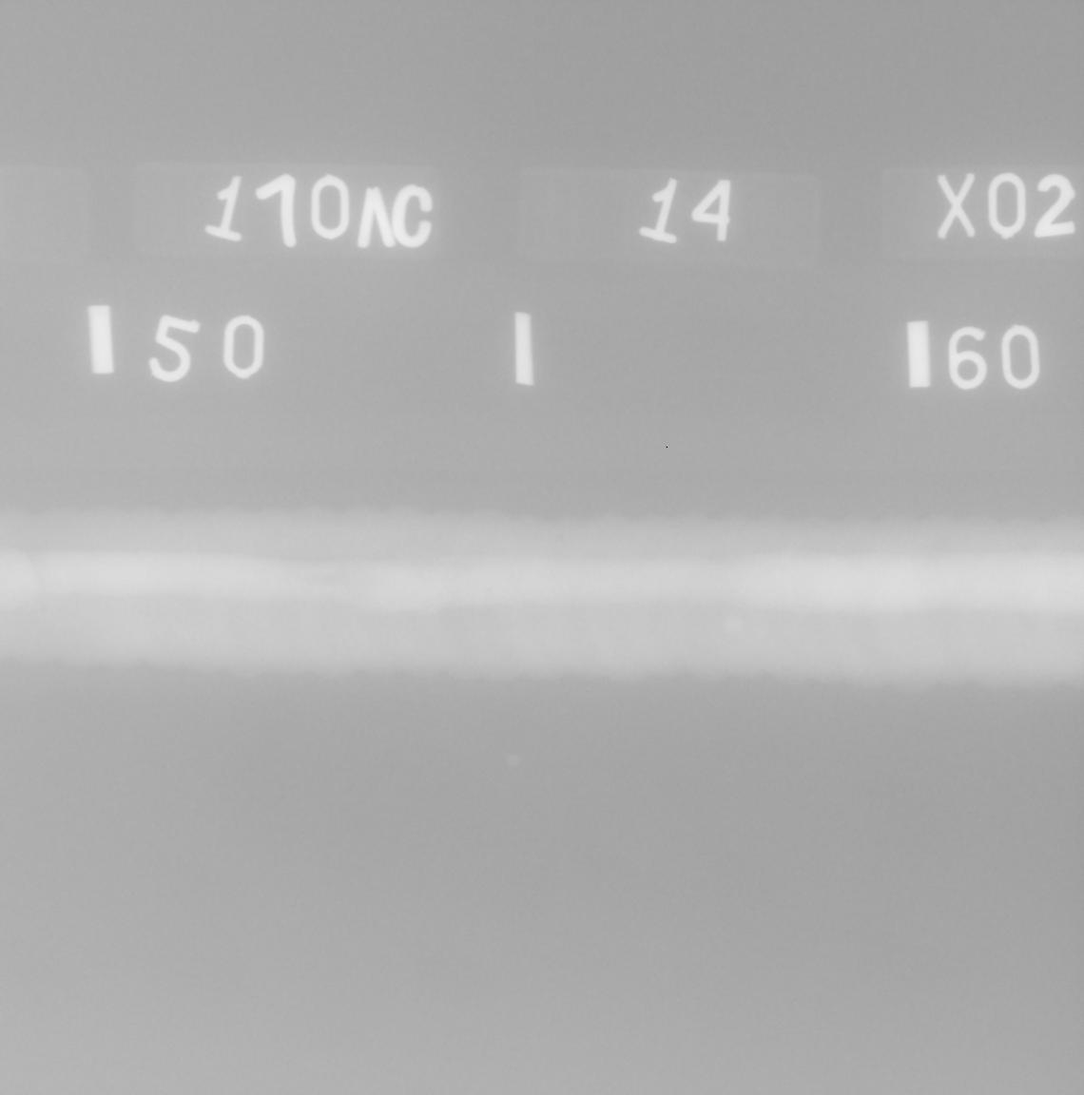Inclusion: (305, 574, 350, 585), (480, 586, 493, 594), (557, 533, 564, 541), (58, 609, 61, 612)
Pore/Porosity: (40, 606, 46, 612)
